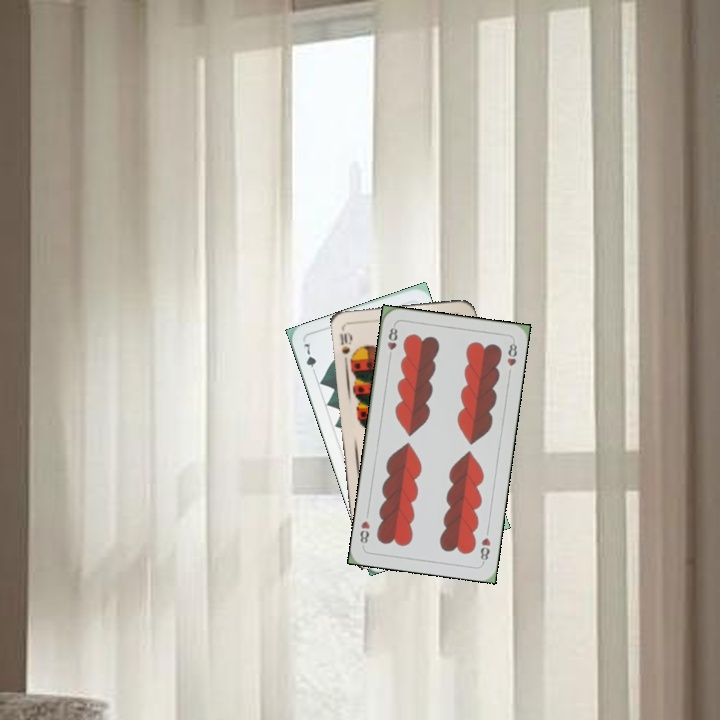G7: (300, 338, 319, 378)
H8: (383, 322, 400, 362), (476, 534, 493, 565)
S10: (335, 329, 356, 366)
